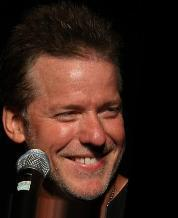face: (54, 104, 120, 173)
